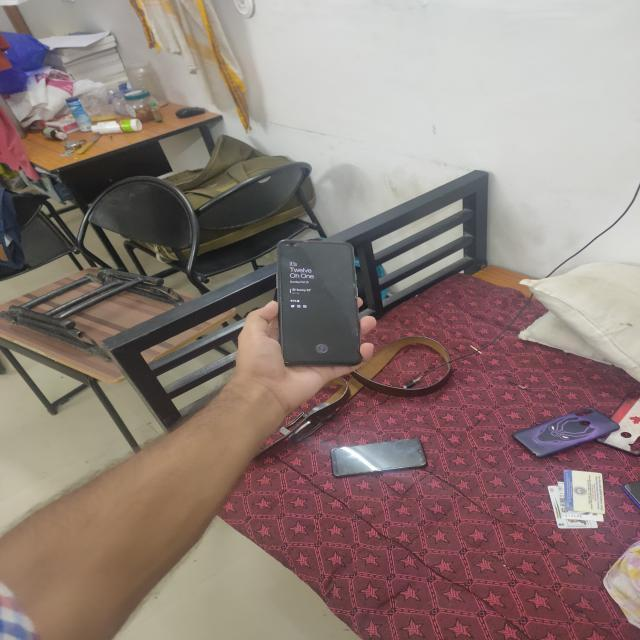Phone: (271, 234, 369, 373), (507, 406, 621, 458), (324, 437, 430, 480)
